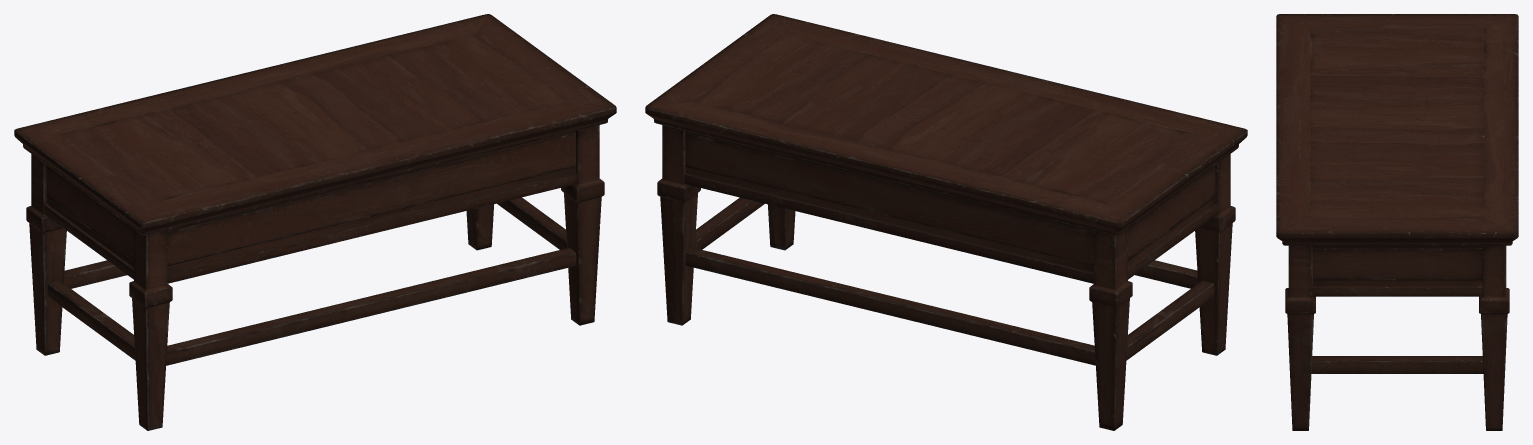
File: WoodTable.fbx
The picture shows the model from 3 angles, left to right: view 1: azimuth 30°, elevation 25°; view 2: azimuth 150°, elevation 25°; view 3: azimuth 270°, elevation 25°; orthographic projection. The views are drawn at different scales.
Parts seen in each view (by area): view 1: Wooden Table; view 2: Wooden Table; view 3: Wooden Table.
Part boxes in pixels (x1,y1,x2,y2): Wooden Table: [14, 14, 616, 430]; Wooden Table: [645, 14, 1247, 430]; Wooden Table: [1276, 14, 1518, 430].
Bounding box in the file's own units: 1.5 × 0.6558 × 0.7027.
Materials: 1 (1 with a texture image).
